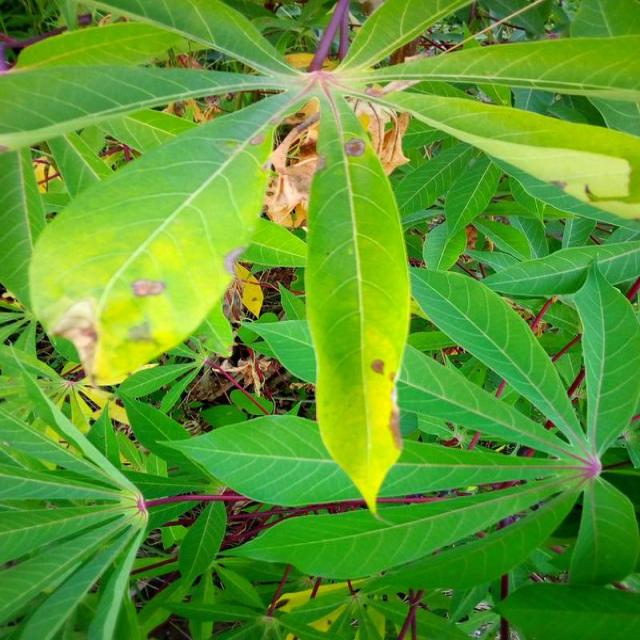cassava leaf: (1, 1, 638, 637), (27, 107, 277, 387), (302, 78, 412, 516)
